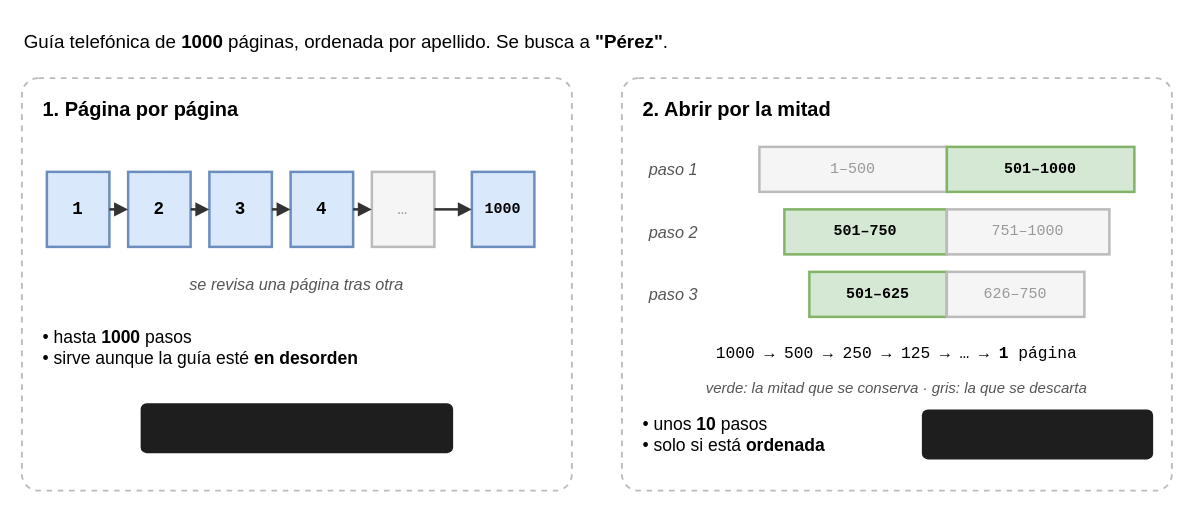
Image size: 1195x513. Some labels were removed from this diagram. Here are the shapes that lost their labels. From the top down, the centre of each, then its label:
At (x=296, y=427): "búsqueda lineal".
At (x=1036, y=434): "búsqueda binaria".
